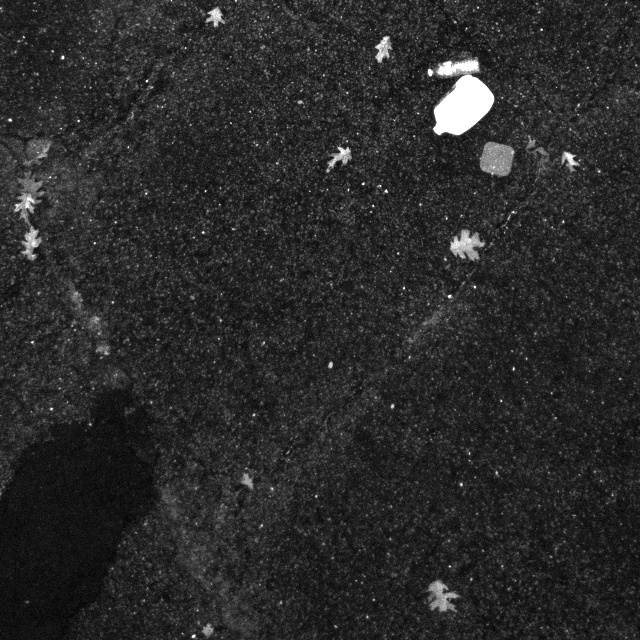bottle: (423, 51, 483, 78)
can: (425, 70, 501, 143)
container: (473, 136, 517, 181)
